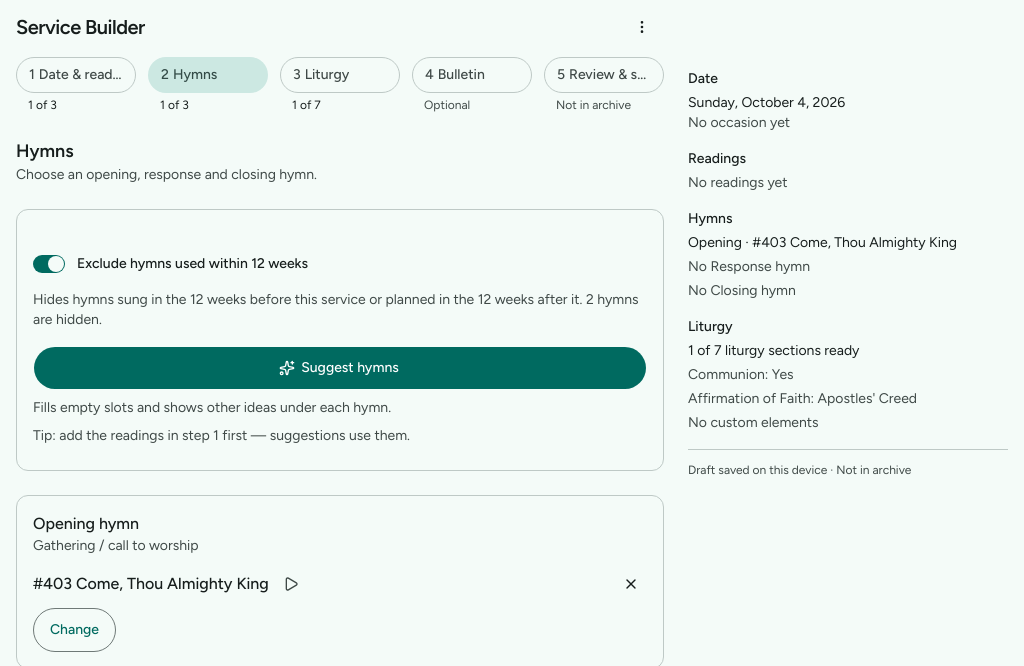
it: slot cards (S Slot cards, Notices) › Escape from Change's picker gives focus back to Change; Tab moves to its ▾ button, then on, closing it without taking focus back
The width and height of the screenshot is (1024, 666).
Click the button "Change" at {"x": 74, "y": 630}, box [33,608,116,652]
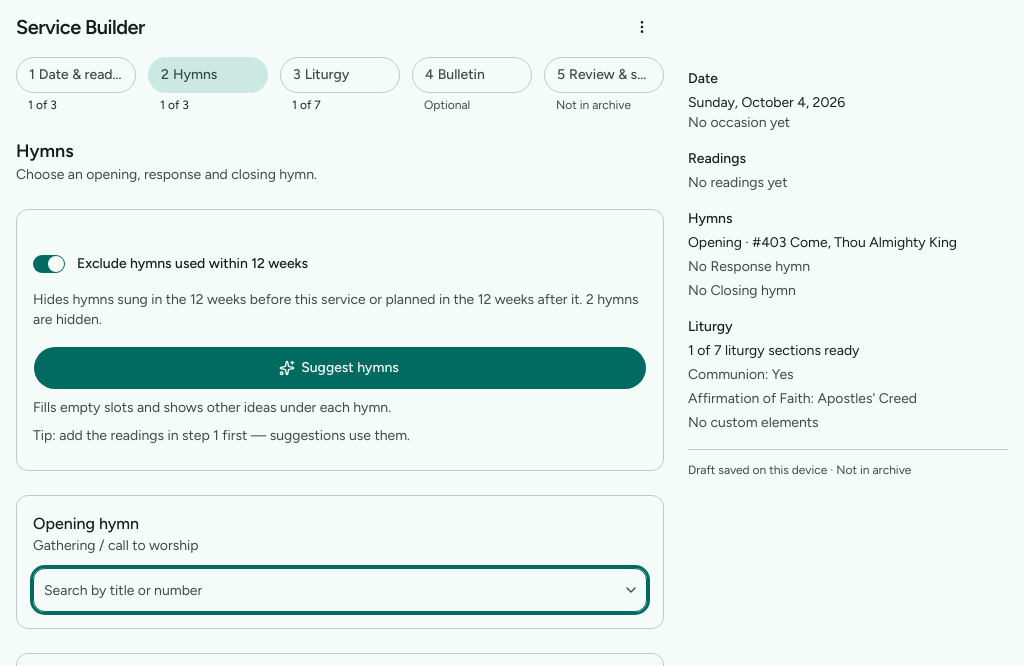
Press Escape
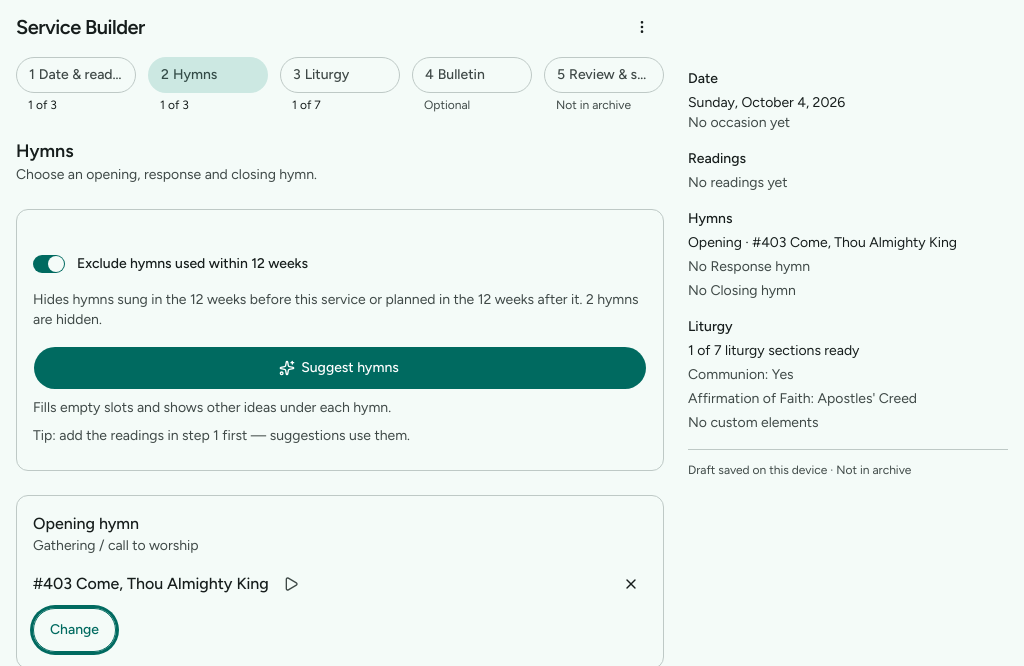
Press Enter
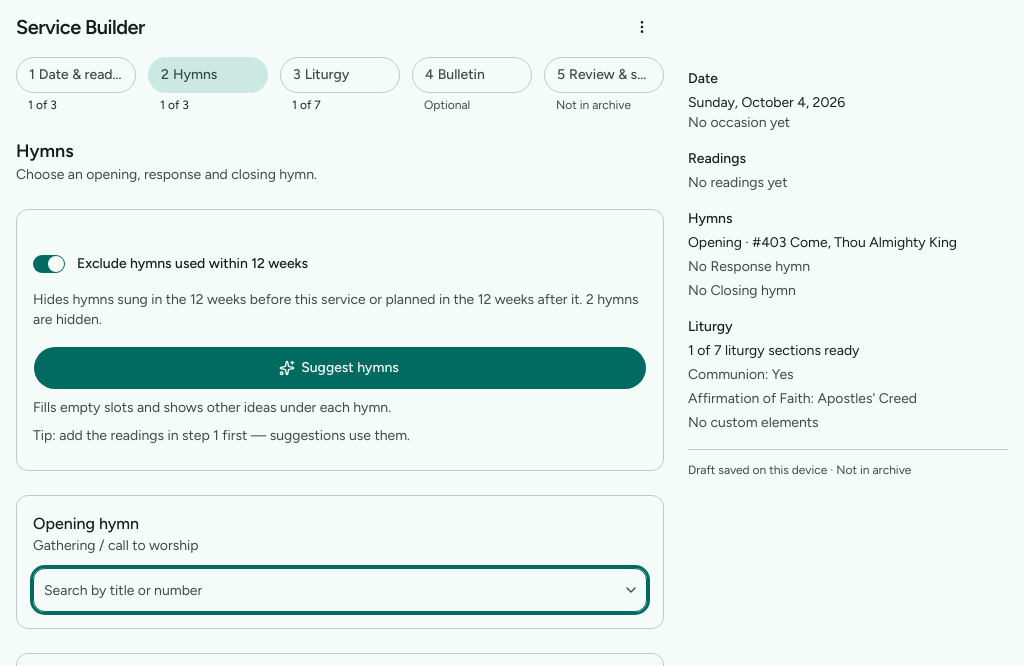
Press Tab
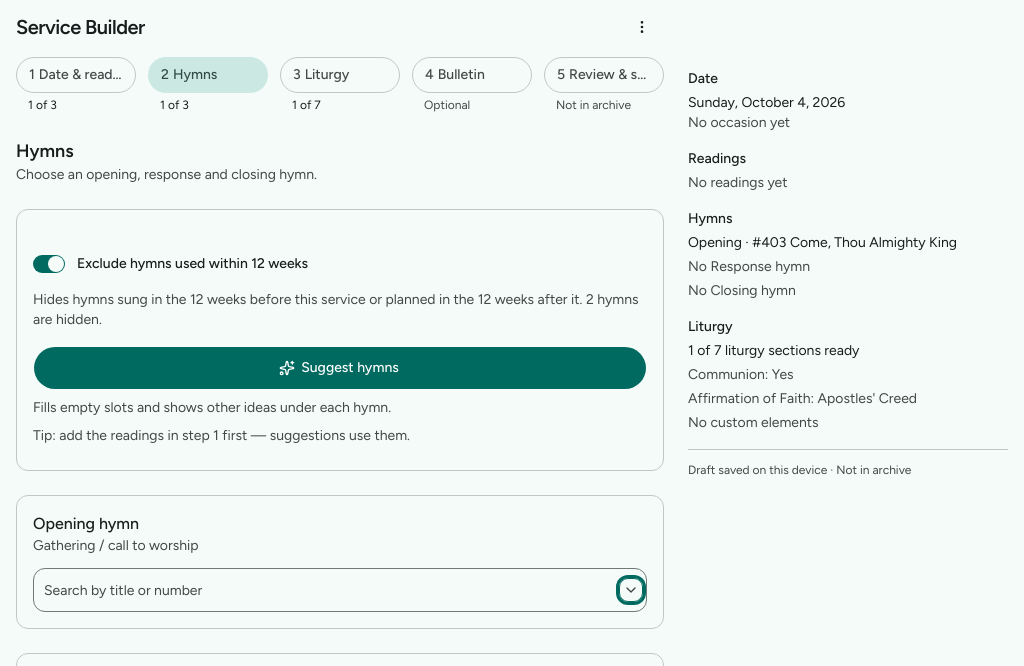
Result: the dropdown named "Opening hymn" is shown at [34,569,619,611]
Press Tab
(page scrolled)
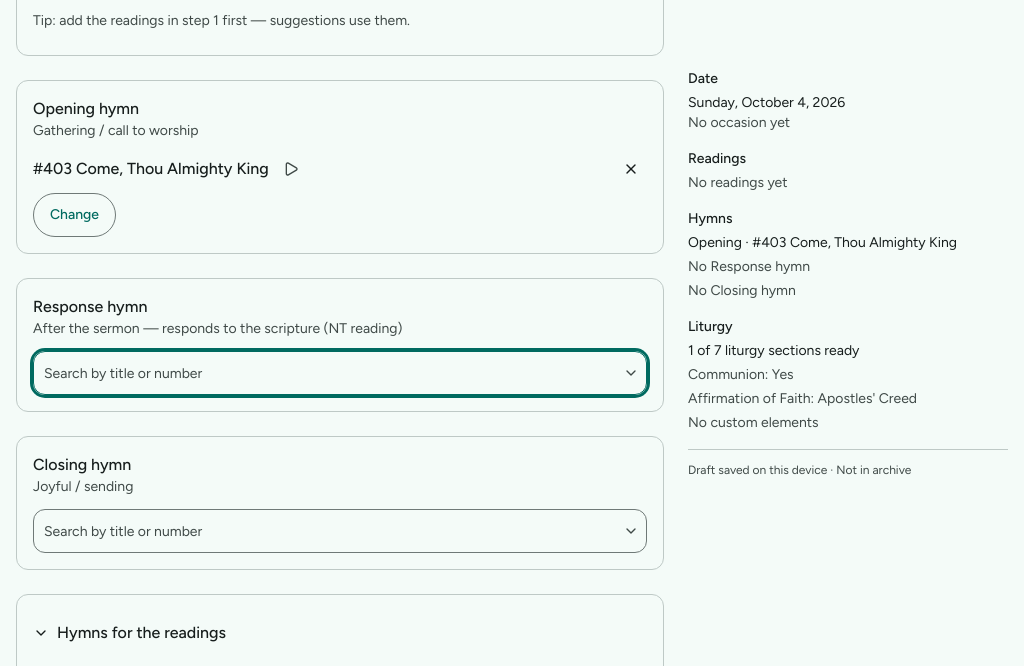
Result: the button "Change" is shown at [33,193,116,237]
